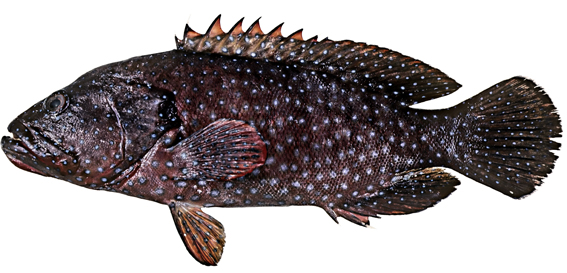fish: (1, 16, 563, 268)
